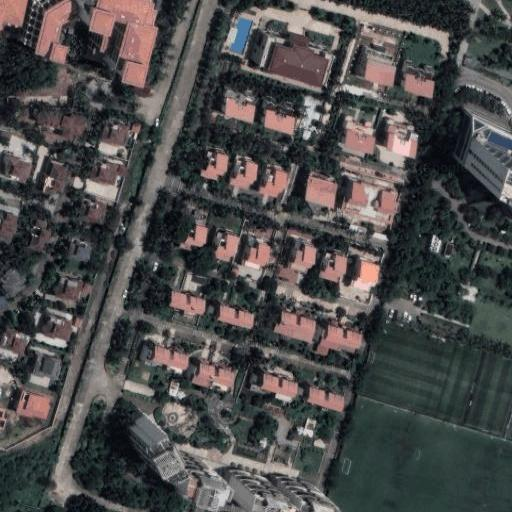building: (77, 0, 158, 89), (259, 32, 335, 87), (463, 139, 512, 203), (123, 414, 167, 465), (315, 324, 366, 358), (238, 466, 284, 503), (169, 449, 215, 485), (287, 481, 337, 512), (273, 312, 318, 344), (194, 362, 235, 393), (89, 157, 130, 186), (363, 49, 396, 85), (305, 174, 339, 208), (475, 124, 512, 155), (38, 312, 75, 342), (305, 387, 345, 414), (388, 125, 419, 159), (260, 374, 296, 403), (168, 292, 208, 317), (351, 260, 381, 293), (258, 165, 287, 199), (343, 129, 378, 157), (216, 305, 256, 329), (229, 158, 258, 191), (213, 230, 241, 264), (116, 375, 154, 400), (288, 241, 319, 271), (319, 252, 348, 284), (30, 352, 63, 380), (17, 391, 51, 418), (44, 161, 71, 195), (200, 151, 229, 182), (151, 346, 188, 370), (242, 242, 272, 271), (344, 182, 370, 215), (180, 223, 209, 252), (53, 275, 83, 303), (55, 113, 86, 140), (175, 267, 206, 293), (77, 196, 106, 223), (29, 217, 51, 252), (263, 110, 295, 134), (404, 75, 437, 98), (100, 122, 129, 148), (224, 99, 254, 123), (66, 238, 93, 261), (34, 108, 60, 130), (379, 191, 400, 216), (274, 264, 299, 283), (165, 375, 184, 395), (0, 408, 9, 441), (304, 418, 316, 438), (80, 283, 91, 294), (73, 317, 83, 327), (131, 124, 141, 132)
